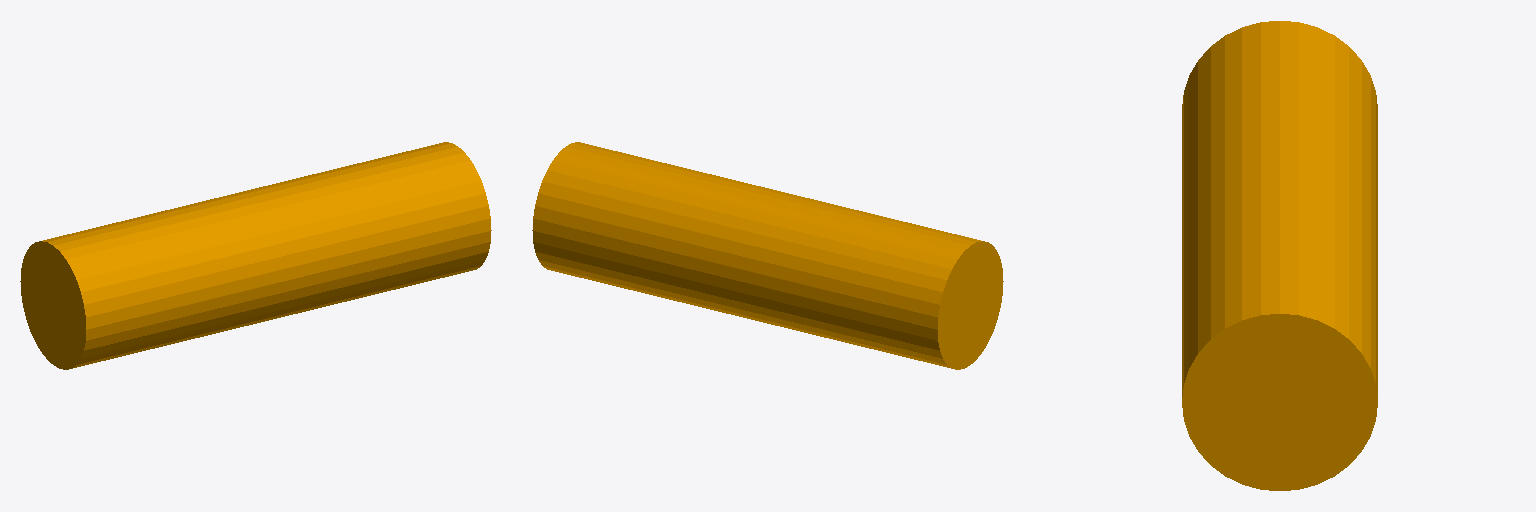
robot.urdf — bottle_capsule_outer:
<?xml version="1.0"?>
<robot name="bottle_capsule_outer">
 <link name="body">
  <inertial>
    <mass value="1"/>
    <inertia ixx="0.0638083333333" ixy="0" ixz="0" iyy="0.0638083333333" iyz="0" izz="0.0036"/>
  </inertial>
  <visual>
    <origin rpy="0 1.57 0" xyz="0 0 0"/>
    <geometry>
      <cylinder length="0.85" radius="0.12"/>
    </geometry>
  </visual>
  <collision>
    <origin rpy="0 1.57 0" xyz="0 0 0"/>
    <geometry>
      <cylinder length="0.85" radius="0.12"/>
    </geometry>
  </collision>
 </link>

  <klampt package_root="../../.." default_acc_max="4" >
  </klampt>
</robot>

--- Render facts (derived) ---
Views: 3 orthographic renders of the robot side by side, from view 1: azimuth 30°, elevation 25°; view 2: azimuth 150°, elevation 25°; view 3: azimuth 270°, elevation 25°.
Robot: bottle_capsule_outer — 1 links, 0 joints (none); root link body; default pose: all joints at 0.
Visible links, largest first — view 1: body; view 2: body; view 3: body.
Boxes of the visible links, x1=… form: body: x1=20, y1=142, x2=491, y2=369; body: x1=532, y1=142, x2=1003, y2=369; body: x1=1182, y1=21, x2=1377, y2=490.
Size in the robot's own frame: 0.8502 by 0.24 by 0.2407 metres.
Geometry: primitives only (box / cylinder / sphere), no mesh files.